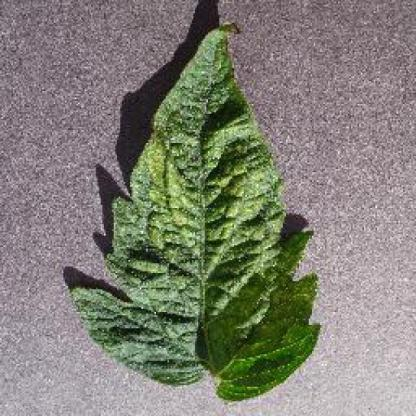Tomato_Spider_Mites: (73, 23, 320, 398)
